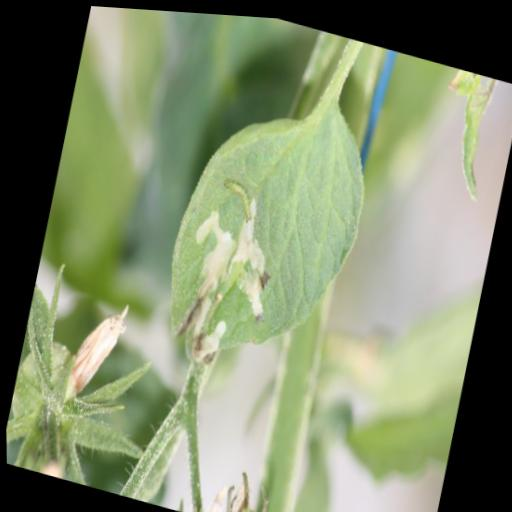Leaf_Miner: (143, 55, 386, 396)
